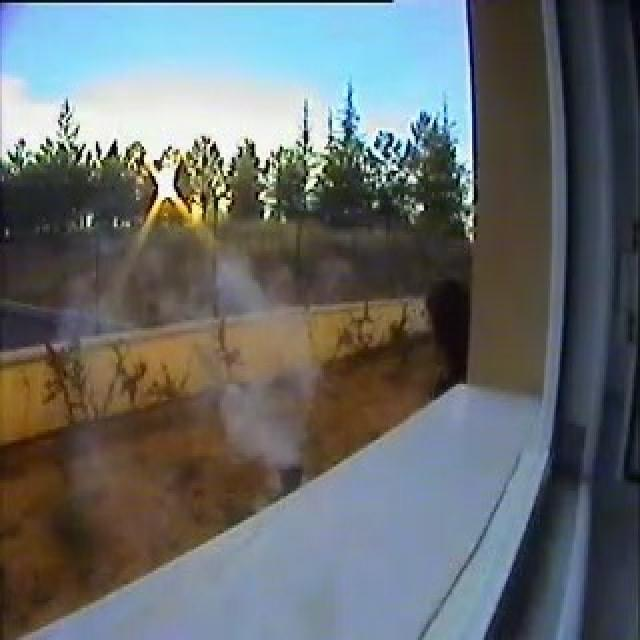smoke: (207, 378, 298, 467)
